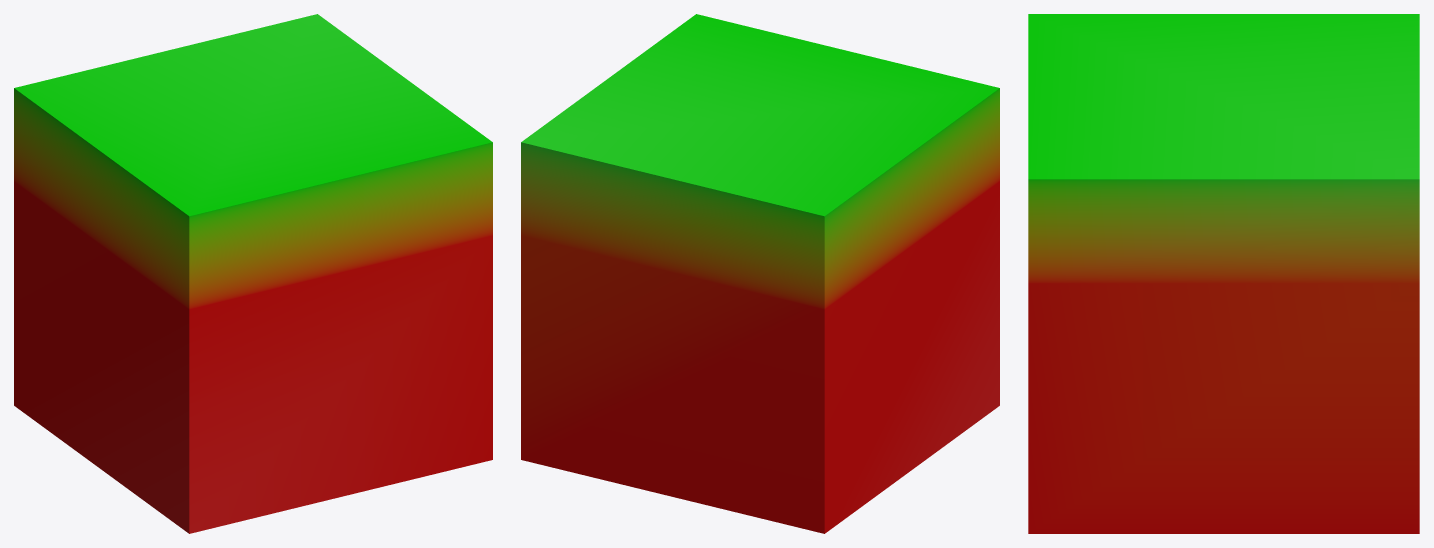
The model's file is GroundPieceBase.fbx.
3 views of the same model, side by side, from view 1: azimuth 30°, elevation 25°; view 2: azimuth 150°, elevation 25°; view 3: azimuth 270°, elevation 25° (orthographic). The views are drawn at different scales.
Visible parts, largest first — view 1: GroundBasePiece; view 2: GroundBasePiece; view 3: GroundBasePiece.
Part boxes in pixels (bbox=[...]): GroundBasePiece: bbox=[14, 14, 492, 533]; GroundBasePiece: bbox=[521, 14, 999, 533]; GroundBasePiece: bbox=[1028, 14, 1419, 533].
Size of the model in its own units: 100 by 100 by 100.
